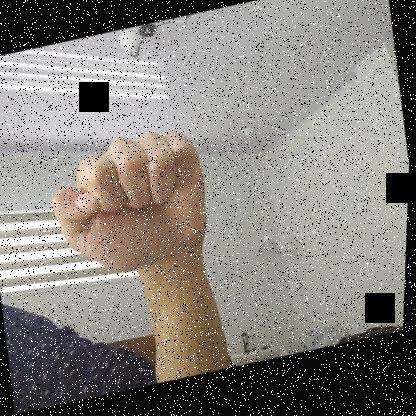A: (43, 120, 222, 288)
